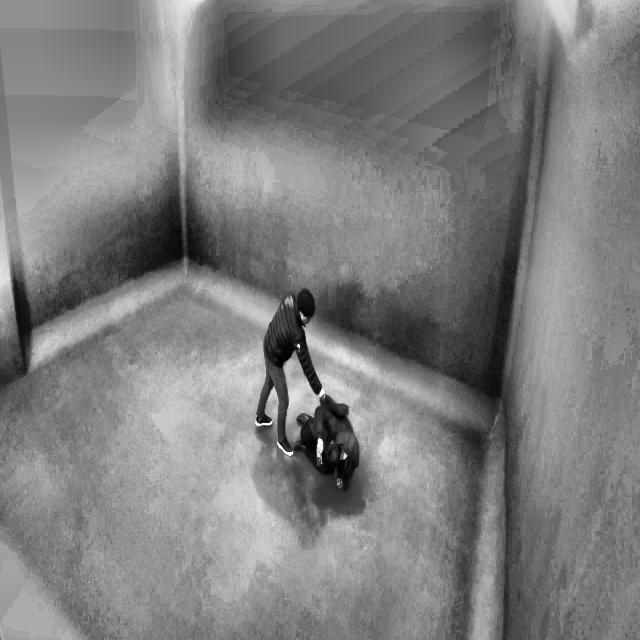assult: (251, 271, 373, 508), (278, 292, 358, 454)
